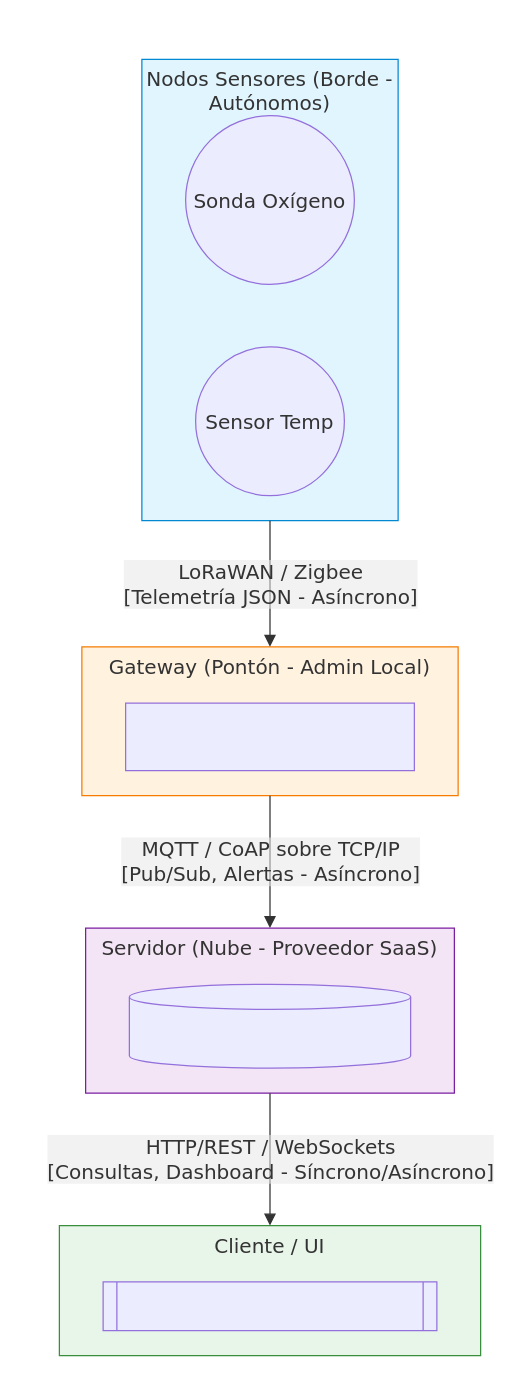
Image size: 515x1378. Some labels were removed from this diagram. The shapes that lost their labels are listed below. From the top down, each one's centre as x and y in pixels, then its label:
At point 269,736: "Antena Repetidora Altai".
At point 269,1025: "Base de Datos y Broker MQTT".
At point 269,1306: "Dashboard Veterinario / Gerente".
